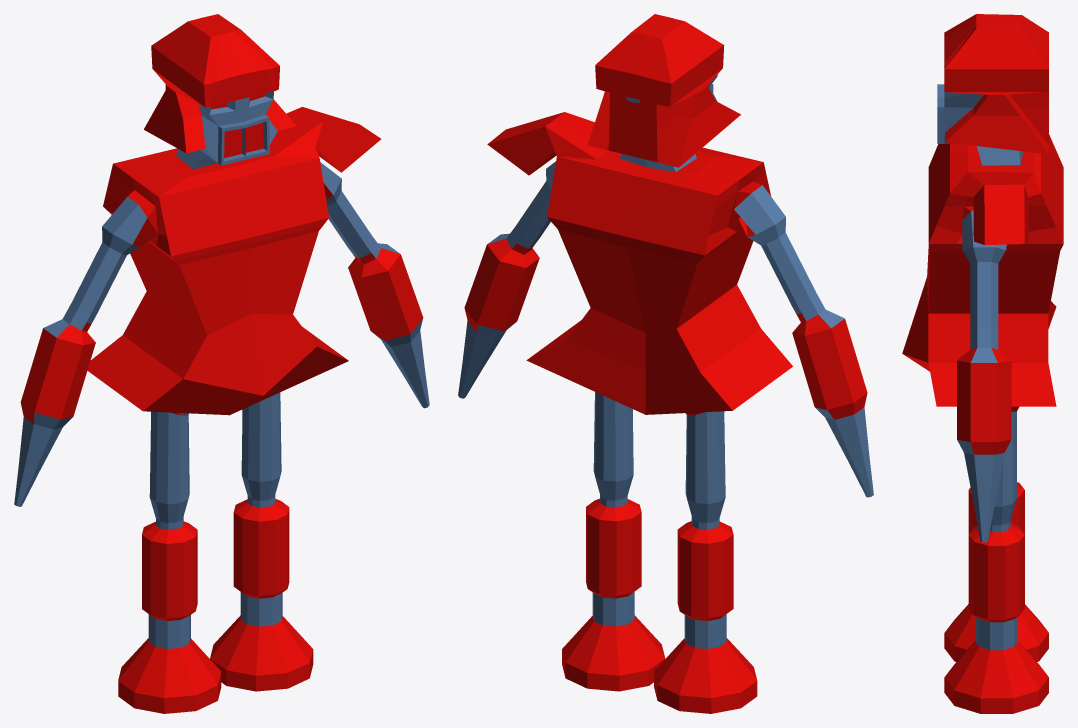
The model's file is robotModel.fbx.
The picture shows the model from 3 angles, left to right: view 1: azimuth 30°, elevation 25°; view 2: azimuth 150°, elevation 25°; view 3: azimuth 270°, elevation 25°; orthographic projection.
Visible parts, largest first — view 1: Cube; view 2: Cube; view 3: Cube.
Part boxes in pixels (box(x1,y1,x2,y2)): Cube: box(14, 14, 429, 713); Cube: box(458, 14, 873, 713); Cube: box(902, 14, 1063, 713).
Bounding box in the file's own units: 130 × 197 × 44.36.
